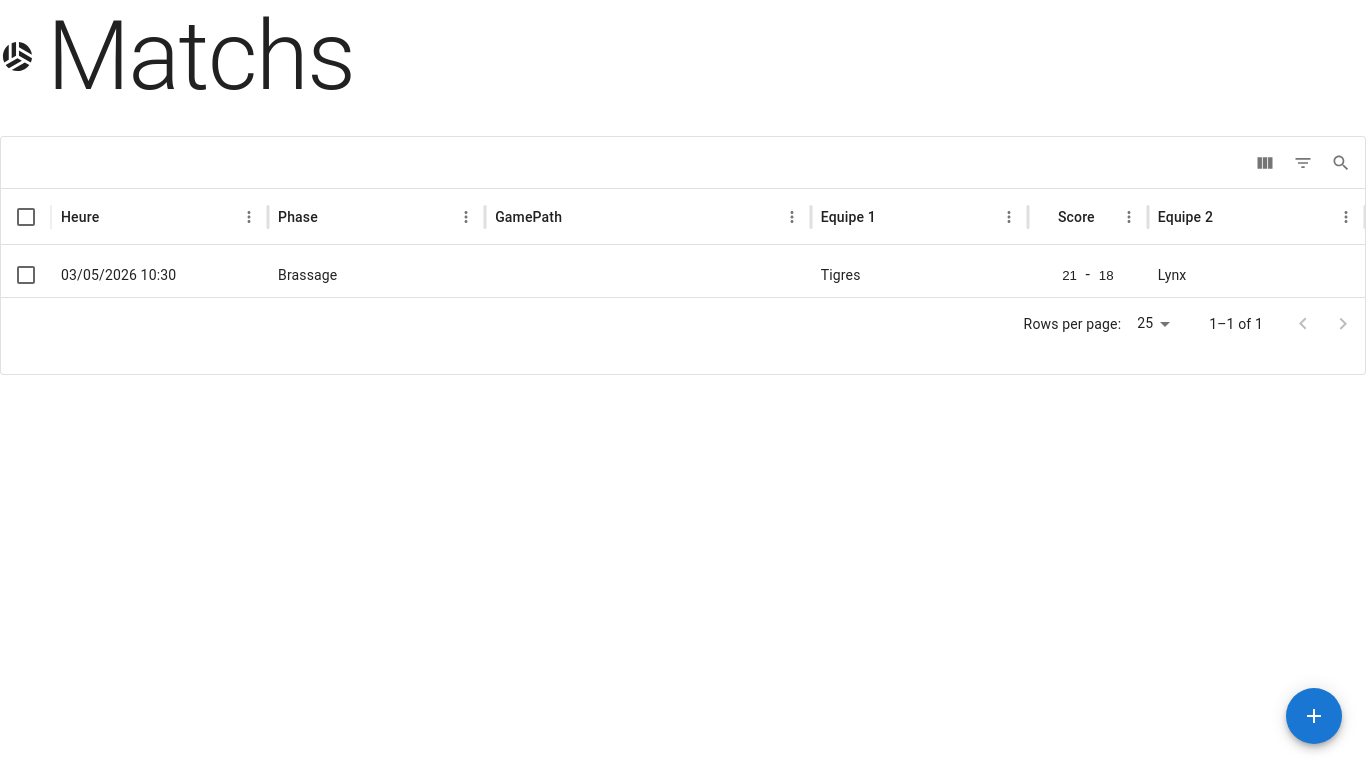
Test case: AdminGamesView › should keep failed deletions selected and display an error
What coordinates should you click on to do the following:
click the checkbox named "Selectionner le match"
I would click on:
 (26, 275)
Its box is [14,263,38,287].
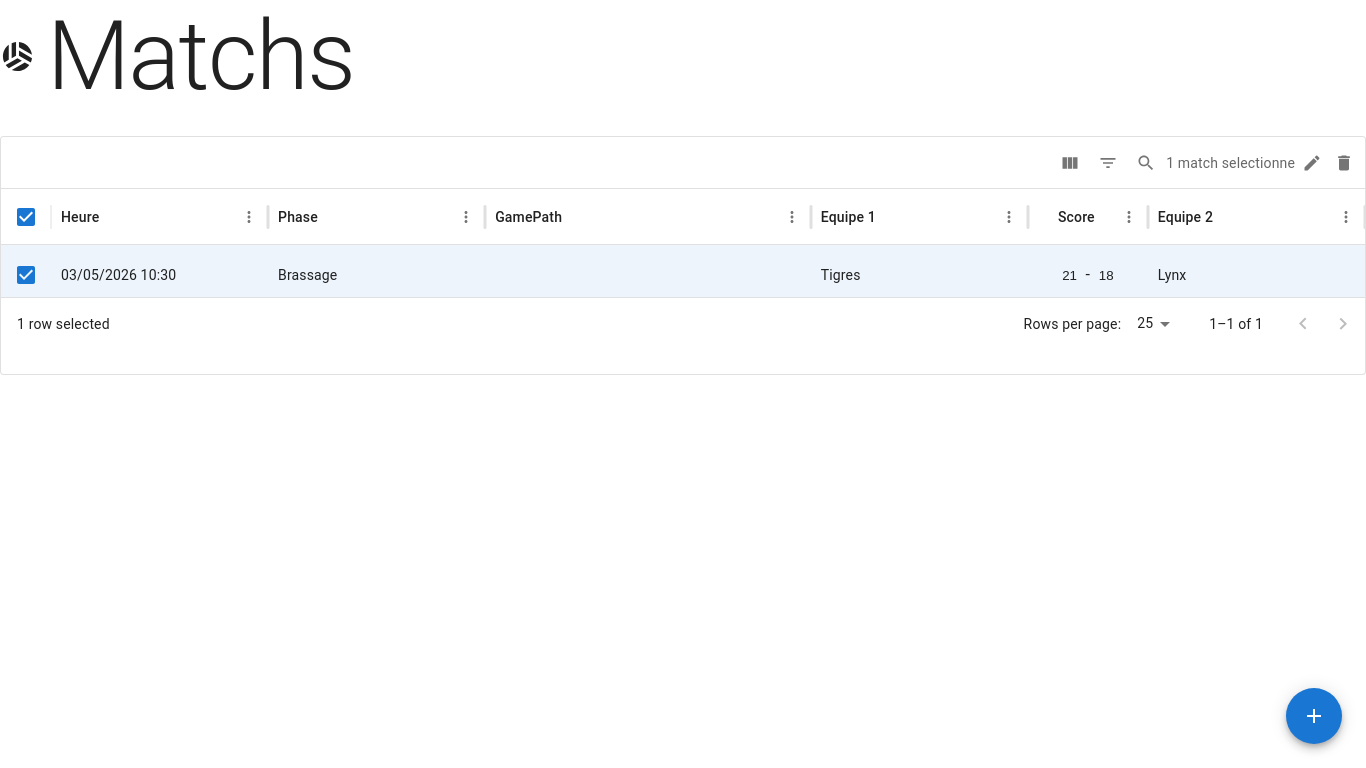
What coordinates should you click on to do the following:
click the button named "Supprimer"
I would click on:
 (1344, 162)
Its box is [1329,148,1359,178].
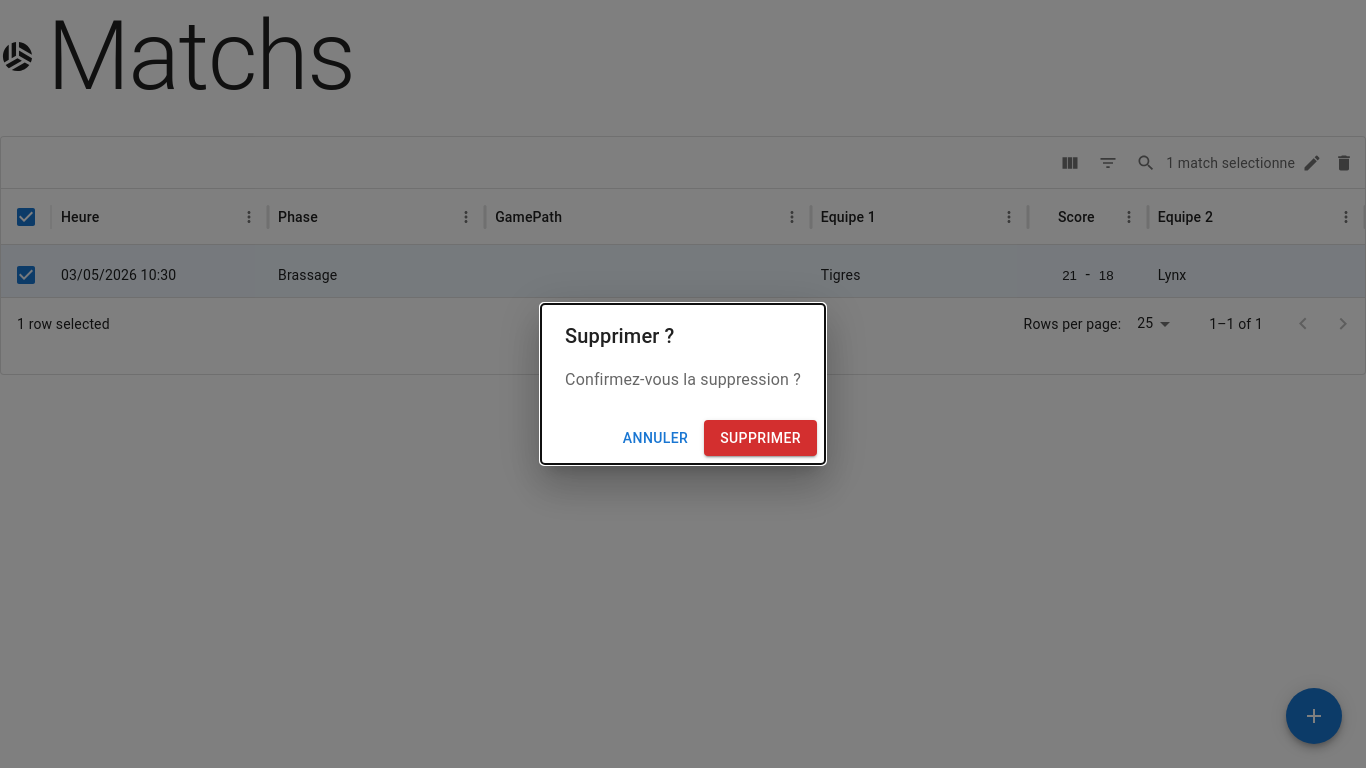
What coordinates should you click on to do the following:
click the button "Supprimer"
I would click on:
 (761, 438)
Its box is [704,420,817,456].
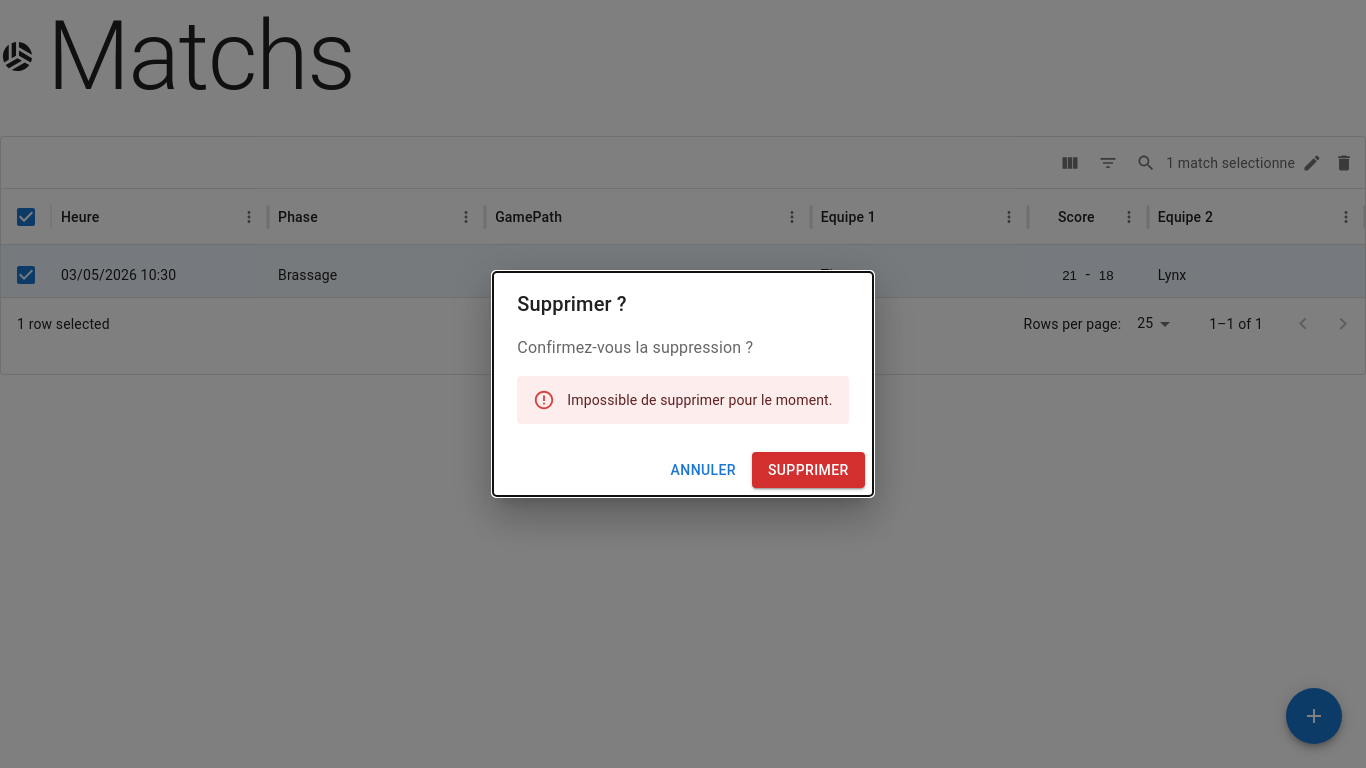
Now the text "1 match selectionne" is shown, box [1166,152,1295,172]
Now the text "Impossible de supprimer pour le moment." is shown, box [567,392,833,408]
